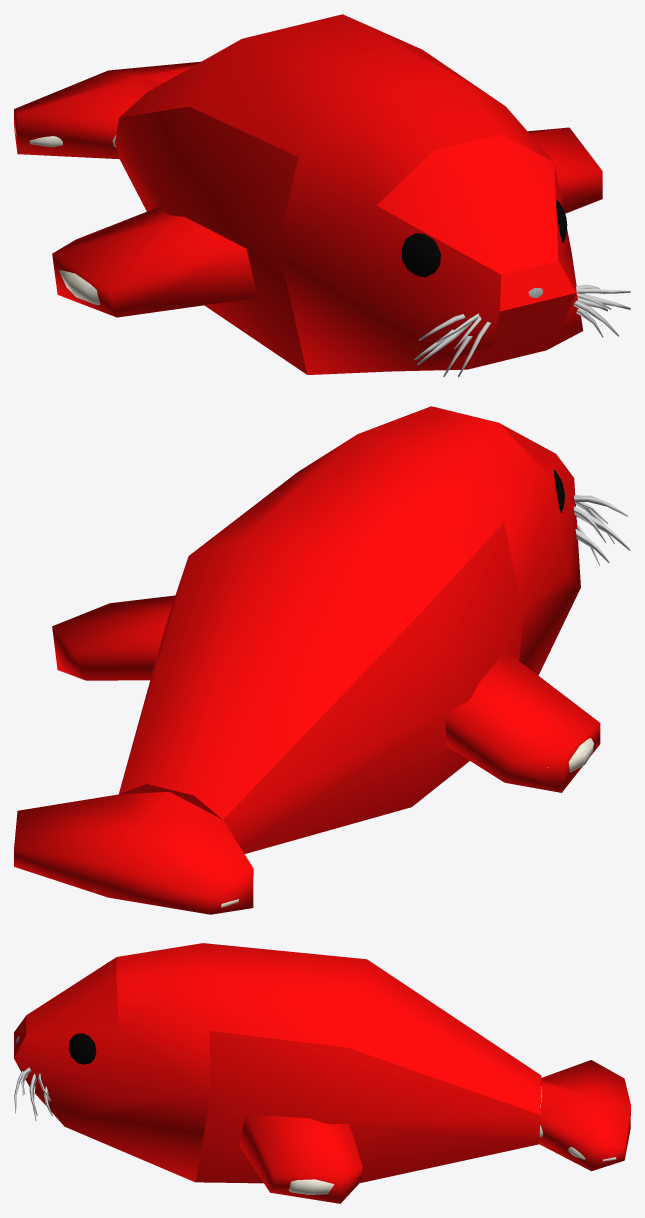
File: Seal_w_col.FBX
3 views of the same model, one above another, from view 1: azimuth 30°, elevation 25°; view 2: azimuth 150°, elevation 25°; view 3: azimuth 270°, elevation 25° (orthographic). The views are drawn at different scales.
Parts seen in each view (by area): view 1: Seal_Body_Col, Seal_FlipperR_Col, Seal_FlipperB_Col, Seal_FlipperL_Col, Seal_Whiskers, Seal_EyeR, Seal_Body; view 2: Seal_Body_Col, Seal_FlipperB_Col, Seal_FlipperR_Col, Seal_FlipperL_Col, Seal_Whiskers; view 3: Seal_Body_Col, Seal_FlipperB_Col, Seal_FlipperL_Col, Seal_Body, Seal_EyeL, Seal_Whiskers.
Part boxes in pixels (x1,y1,x2,y2): Seal_Body_Col: (115,14,583,374); Seal_FlipperR_Col: (52,206,257,317); Seal_FlipperB_Col: (14,61,200,159); Seal_FlipperL_Col: (528,127,602,213); Seal_Whiskers: (413,284,630,377); Seal_EyeR: (401,233,440,277); Seal_Body: (14,125,116,305); Seal_Body_Col: (119,406,580,853); Seal_FlipperB_Col: (14,791,253,914); Seal_FlipperR_Col: (445,650,600,792); Seal_FlipperL_Col: (52,595,175,680); Seal_Whiskers: (573,495,630,565); Seal_Body_Col: (14,943,541,1183); Seal_FlipperB_Col: (539,1060,630,1171); Seal_FlipperL_Col: (239,1114,362,1203); Seal_Body: (288,1086,616,1194); Seal_EyeL: (68,1033,96,1064); Seal_Whiskers: (14,1067,52,1120).
Size of the model in its own units: 106 by 51.78 by 152.
